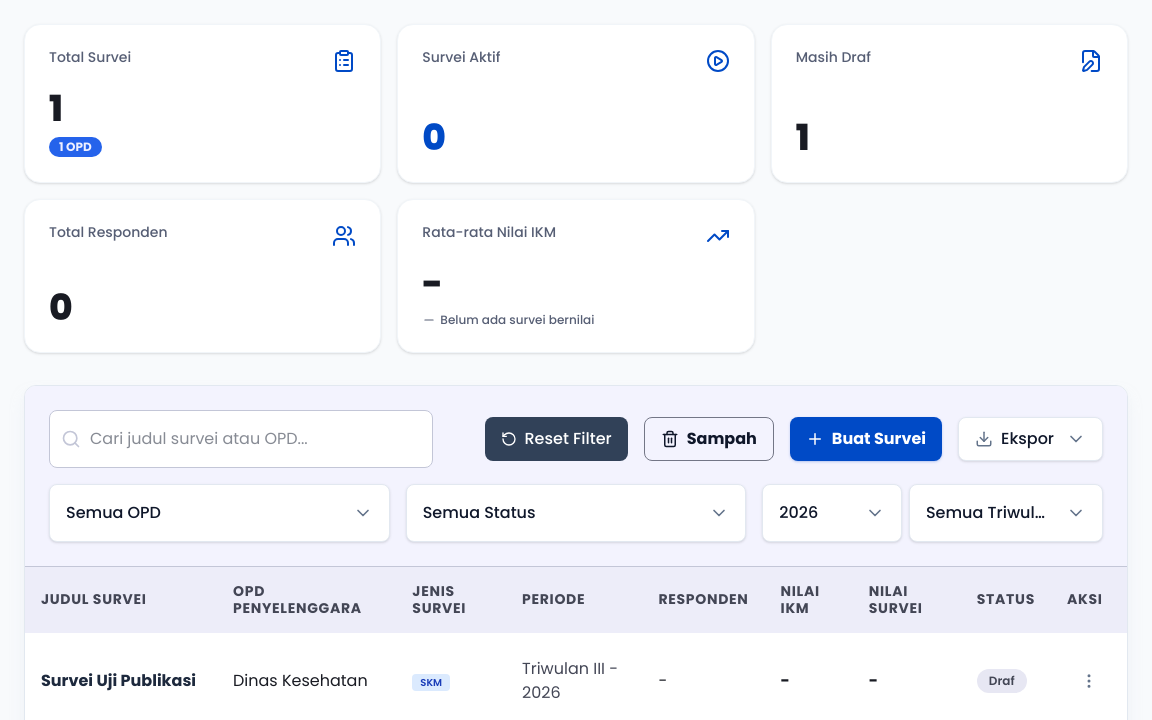
Test case: Umpan balik aksi survei (TC-FE-006) › tidak menyisakan pesan sukses lama ketika aksi berikutnya gagal
expect the text "Survei Uji Publikasi" is shown: met, box [41,669,201,693]
Click the button named "aksi untuk".
click(1089, 681)  # box [1067,659,1111,703]
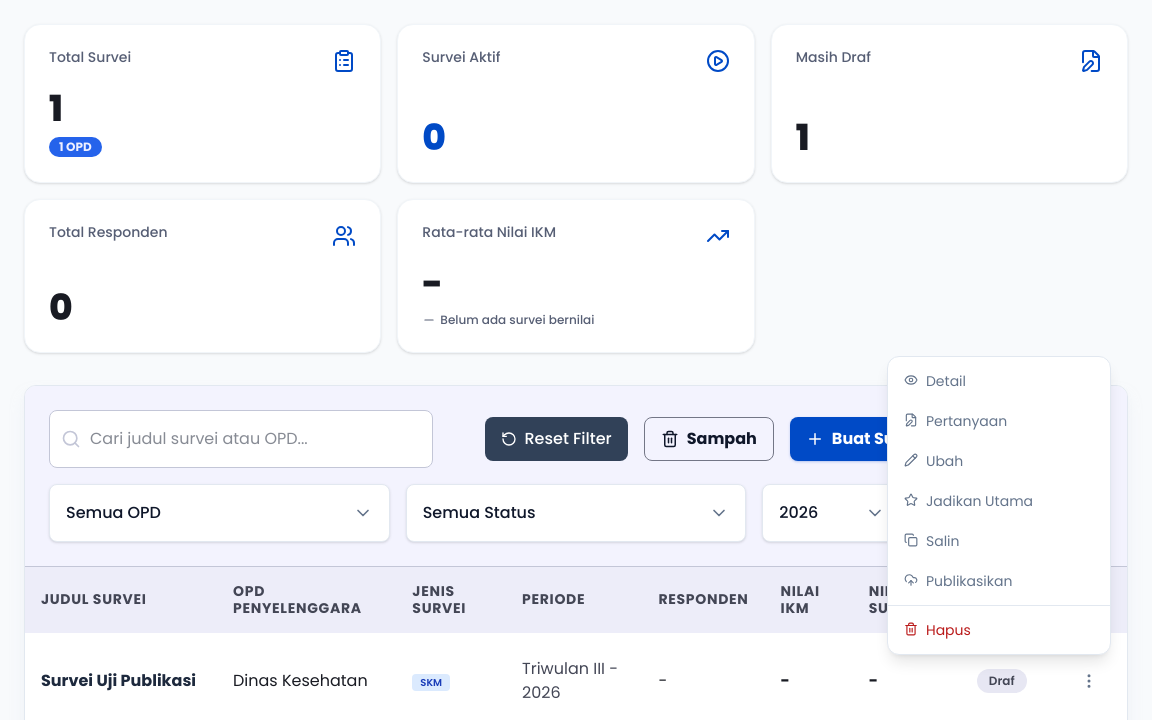
Click the menu item "Publikasikan".
click(999, 581)  # box [888,561,1110,601]
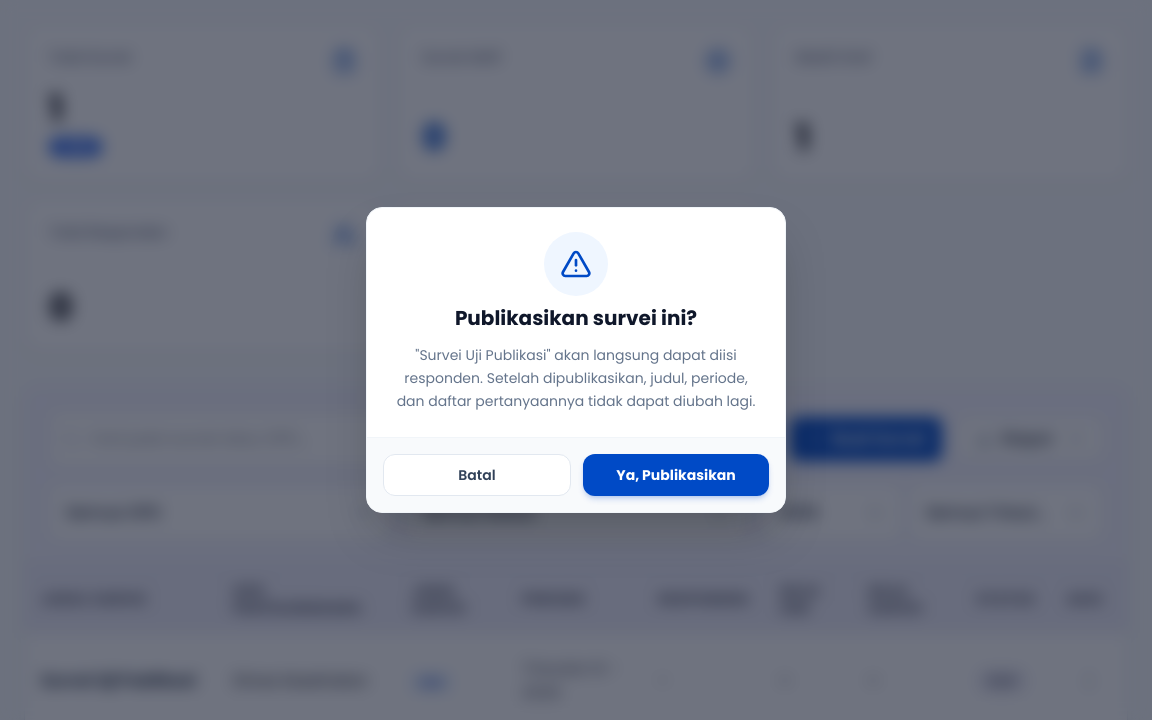
Click the button "Ya, Publikasikan".
click(676, 475)  # box [583,454,769,496]
(page scrolled)
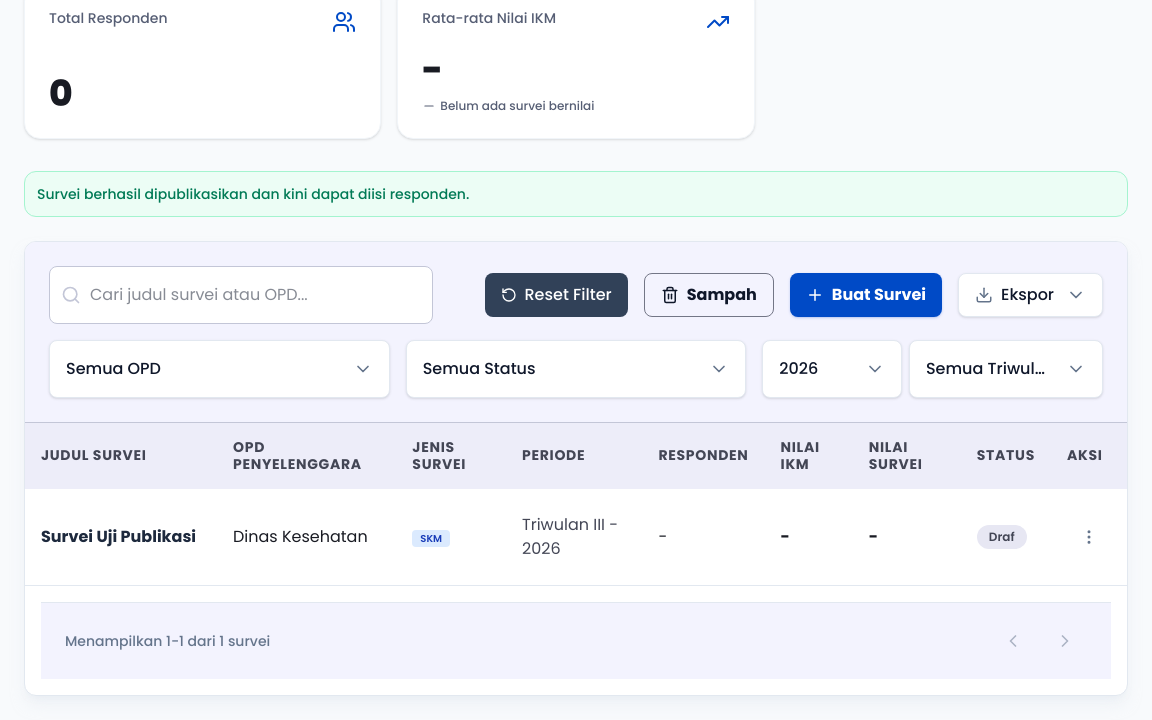
expect the text "berhasil dipublikasikan" is shown: met, box [37,184,469,204]
Click the button named "aksi untuk".
click(1089, 537)  # box [1067,515,1111,559]
(page scrolled)
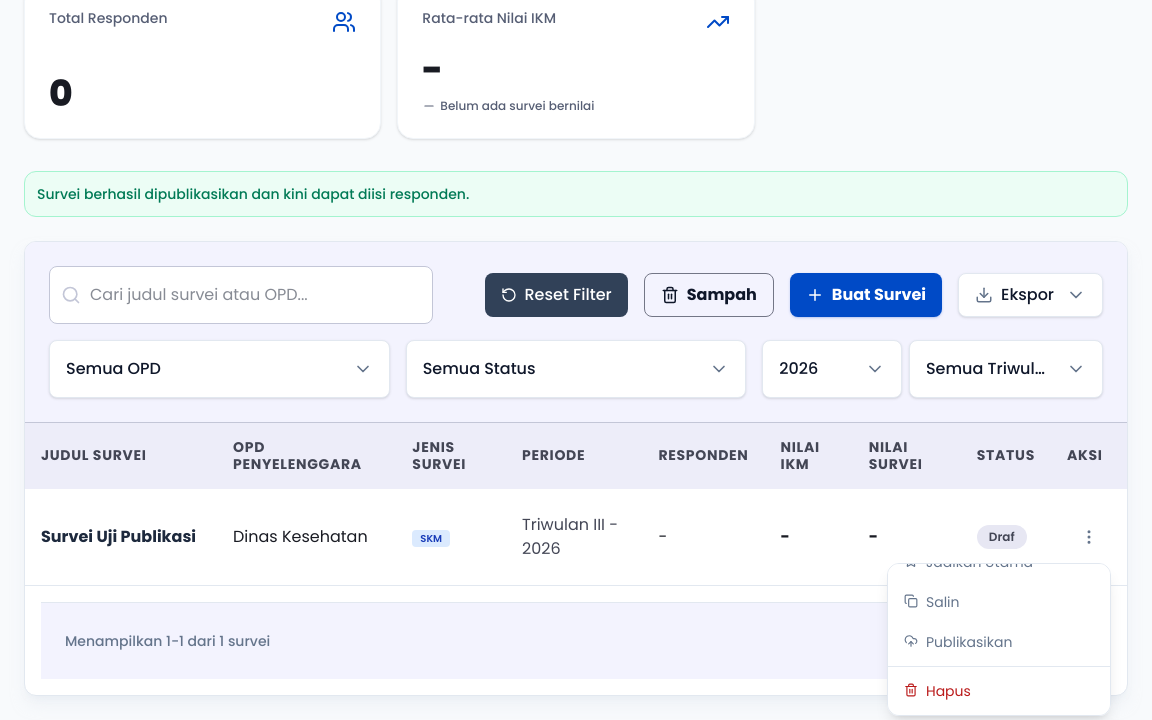
Click the menu item "Publikasikan".
click(999, 642)  # box [888,622,1110,662]
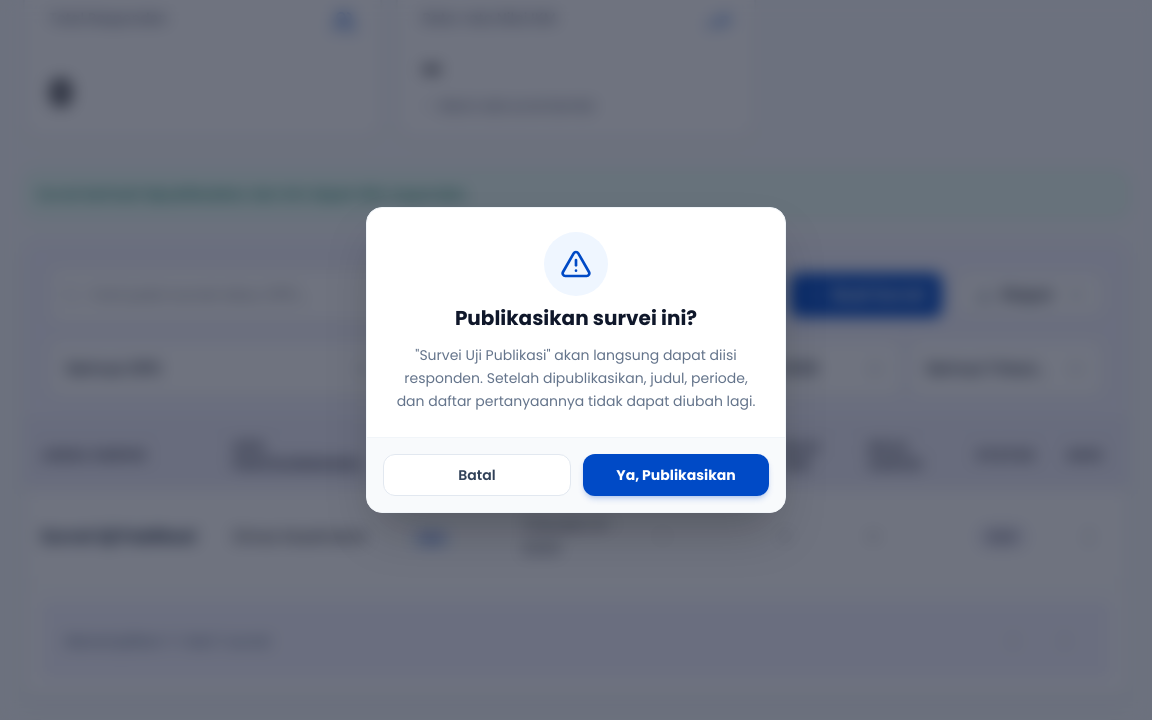
Click the button "Ya, Publikasikan".
click(676, 475)  # box [583,454,769,496]
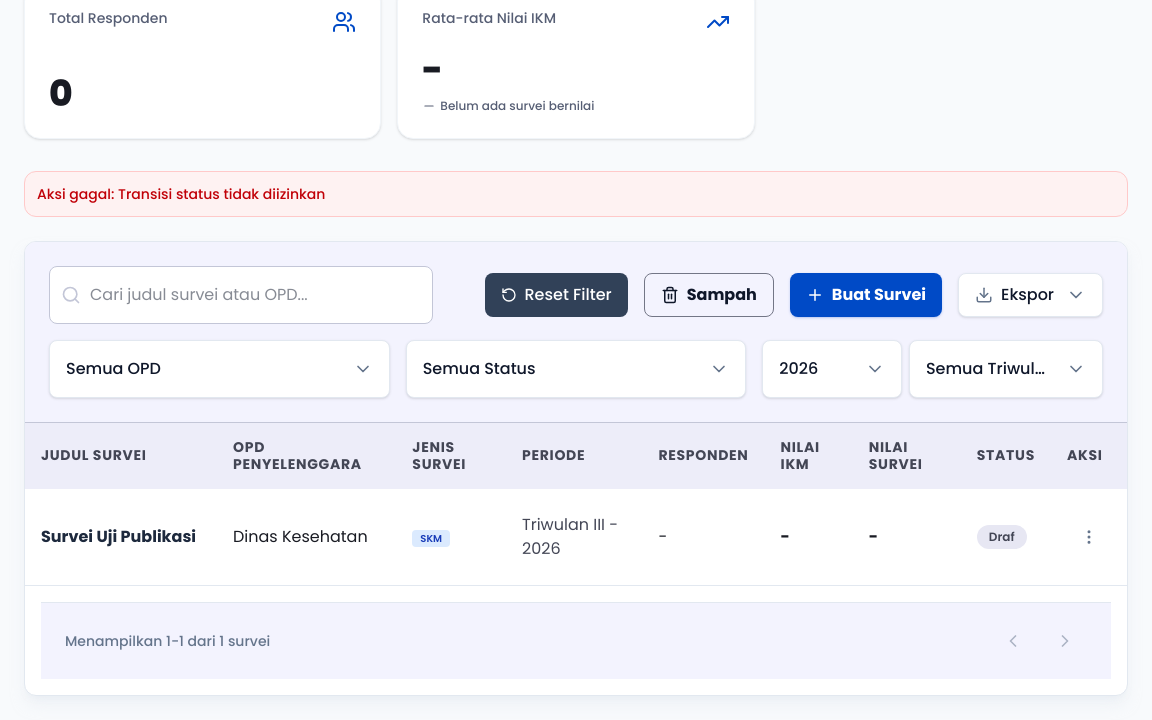
expect the text "Aksi gagal: Transisi status tidak diizinkan" is shown: met, box [24,171,1128,217]
expect the text "berhasil dipublikasikan" is gone: met
